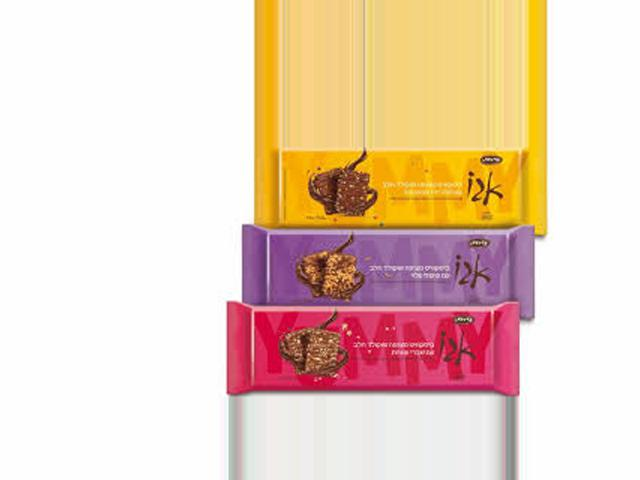chocolate: (206, 302, 532, 398)
